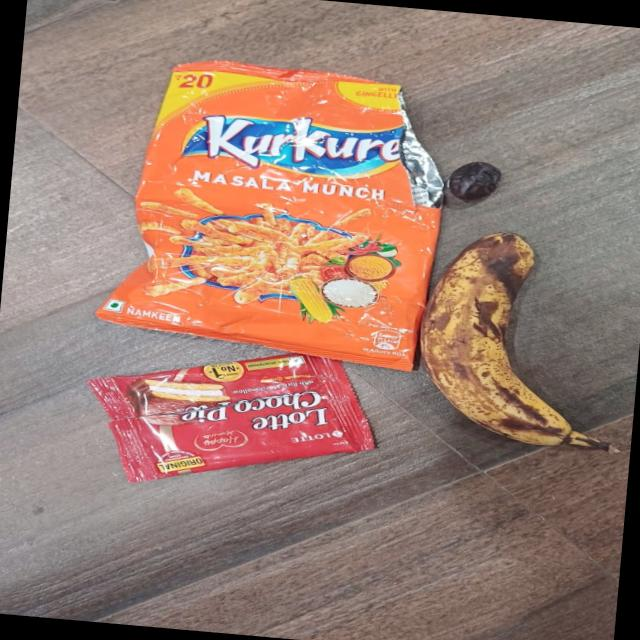Banana-Bio: (404, 221, 640, 454)
Date-Bio: (431, 152, 514, 215)
Plastic-NonBio: (88, 50, 470, 375), (76, 333, 388, 505)
